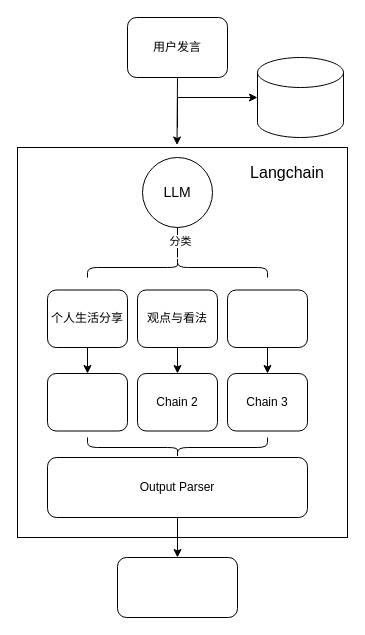
The diagram is 365 pixels wide and 635 high, and some of its shapes have lost their labels. The centre of each missing label's shape, as x and y in pixels:
Chain 1: the point at 87,401
分析结果: the point at 177,587
向量数据库: the point at 300,97
情感表达: the point at 267,318
